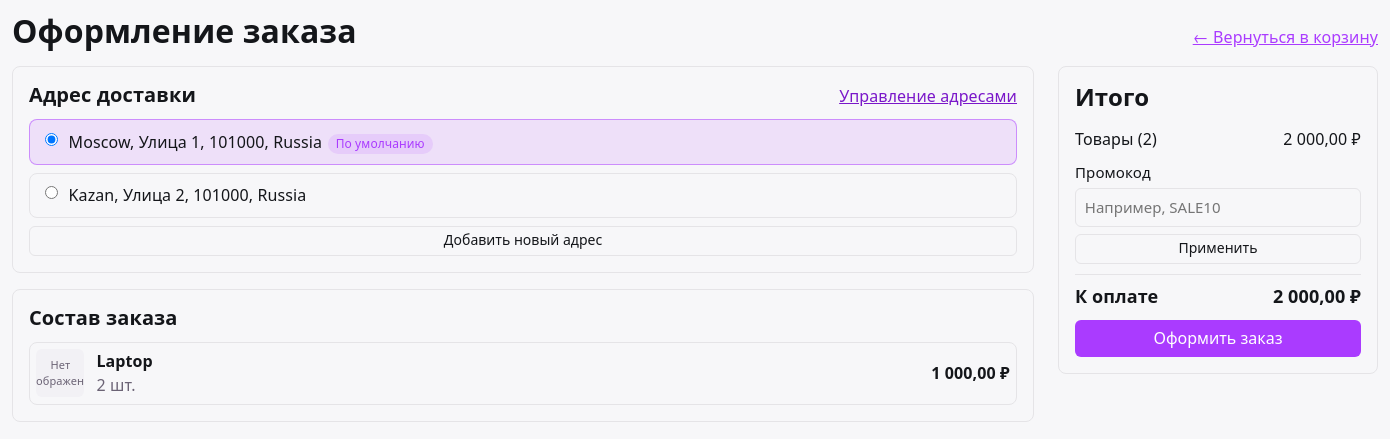
Test: CheckoutPage › выбор другого адреса обновляет radio
Click the radio button labelled "Kazan, Улица 2, 101000, Russia". click: (51, 193)
box: top-left (45, 186), bottom-right (58, 199)
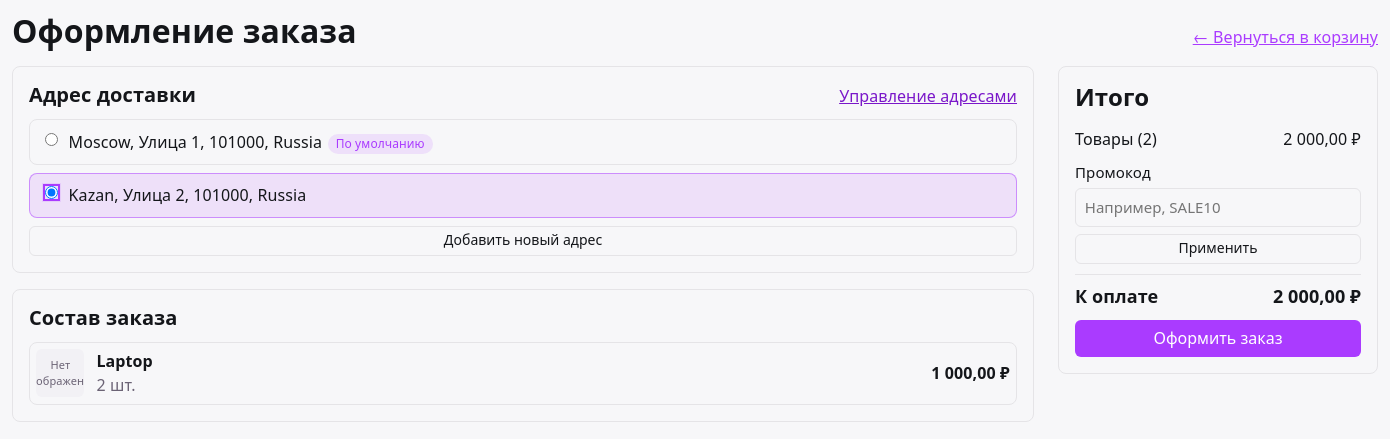
Check: the radio button labelled "Kazan, Улица 2, 101000, Russia" is checked, box top-left (45, 186), bottom-right (58, 199)
Check: the radio button labelled "Moscow, Улица 1, 101000, Russia По умолчанию" is not checked, box top-left (45, 133), bottom-right (58, 146)
